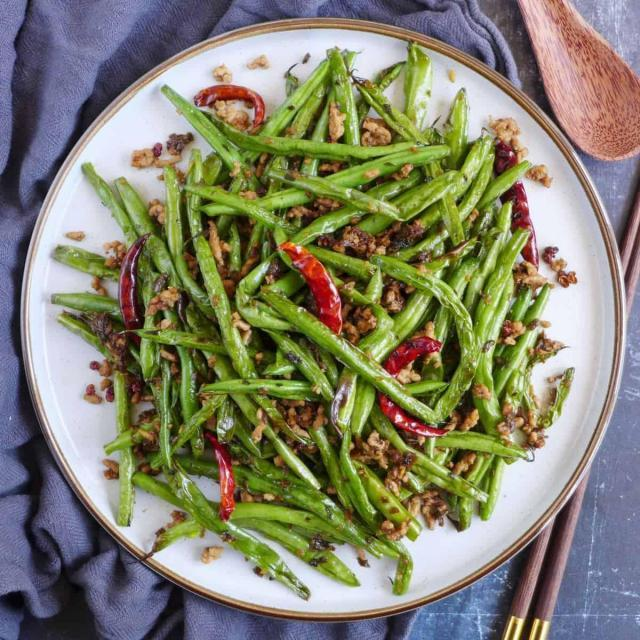Beans: (53, 49, 572, 568)
